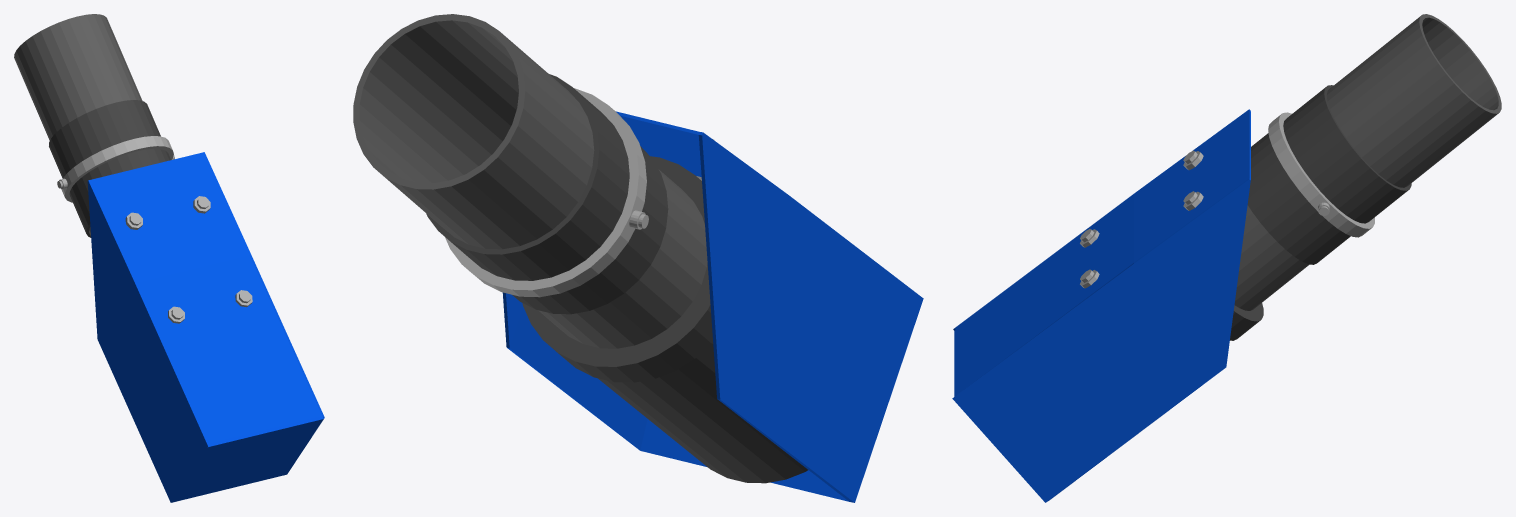
The picture shows the model from 3 angles, left to right: view 1: azimuth 30°, elevation 25°; view 2: azimuth 150°, elevation 25°; view 3: azimuth 270°, elevation 25°; orthographic projection. The views are drawn at different scales.
Parts seen in each view (by area): view 1: Tube; view 2: Tube; view 3: Tube.
Boxes of the visible parts, box(x1,y1,x2,y2) form: Tube: box(14, 14, 324, 502); Tube: box(353, 14, 923, 502); Tube: box(952, 14, 1501, 502).
Size of the model in its own units: 126 by 113 by 38.
